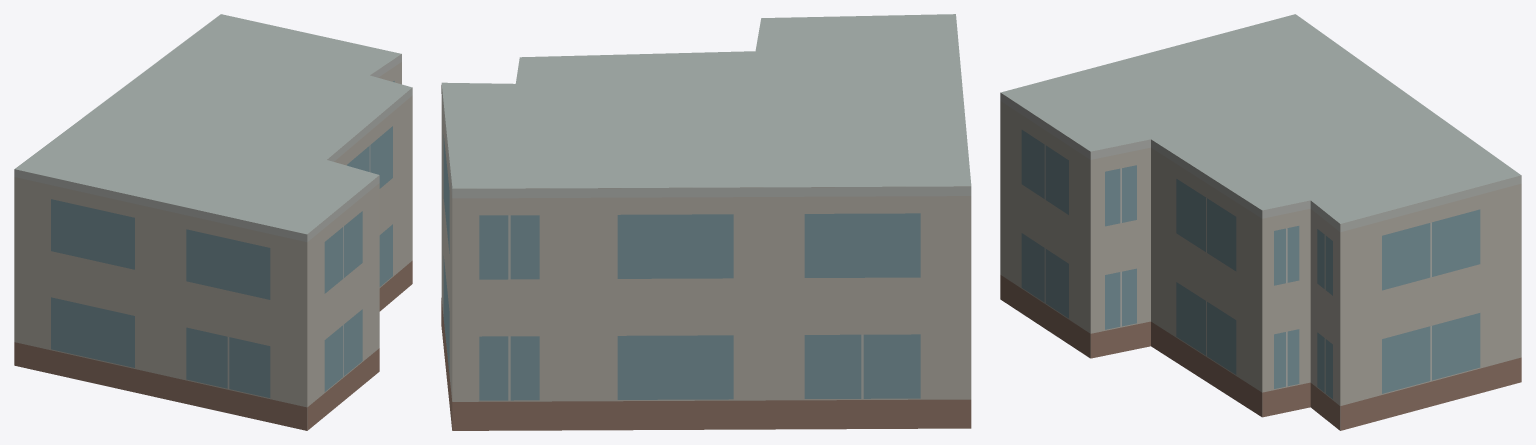
The model's file is survey-upis-32962134.glb.
The picture shows the model from 3 angles, left to right: view 1: azimuth 30°, elevation 25°; view 2: azimuth 150°, elevation 25°; view 3: azimuth 270°, elevation 25°; orthographic projection. The views are drawn at different scales.
Visible parts, largest first — view 1: survey-upis-32962134.tmp; view 2: survey-upis-32962134.tmp; view 3: survey-upis-32962134.tmp.
Boxes of the visible parts, x1,y1,x2,y2 form: survey-upis-32962134.tmp: [14, 14, 412, 430]; survey-upis-32962134.tmp: [441, 14, 971, 430]; survey-upis-32962134.tmp: [1000, 14, 1521, 430].
Bounding box in the file's own units: 13.29 × 6.1 × 13.94.
